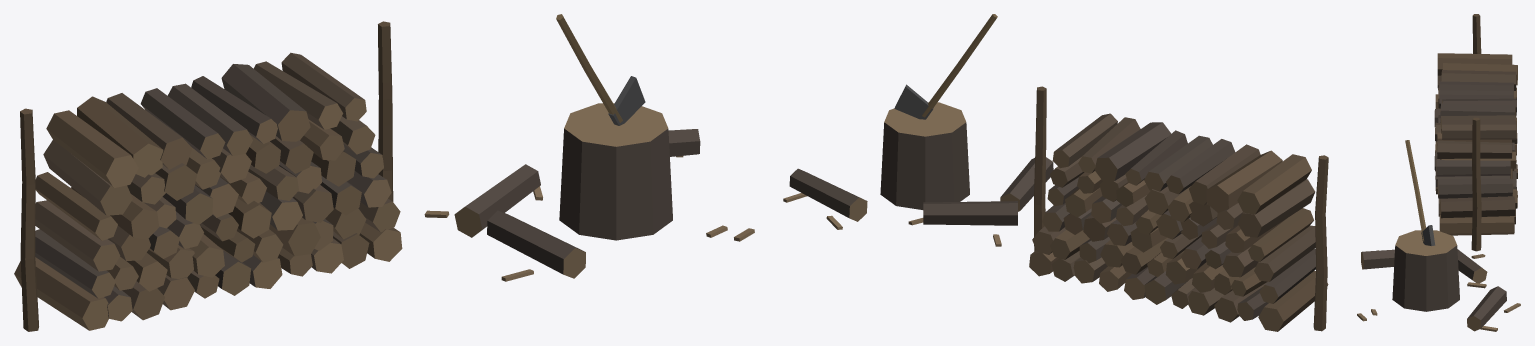
The model's file is lenia.glb.
3 views of the same model, side by side, from view 1: azimuth 30°, elevation 25°; view 2: azimuth 150°, elevation 25°; view 3: azimuth 270°, elevation 25° (orthographic). The views are drawn at different scales.
Parts seen in each view (by area): view 1: Lenia; view 2: Lenia; view 3: Lenia.
Boxes of the visible parts, box(x1,y1,x2,y2) form: Lenia: box(14, 14, 754, 331); Lenia: box(783, 14, 1328, 331); Lenia: box(1357, 14, 1520, 331).
Size of what is drawn, in the model's own units: 3.25 by 1.11 by 1.14.
